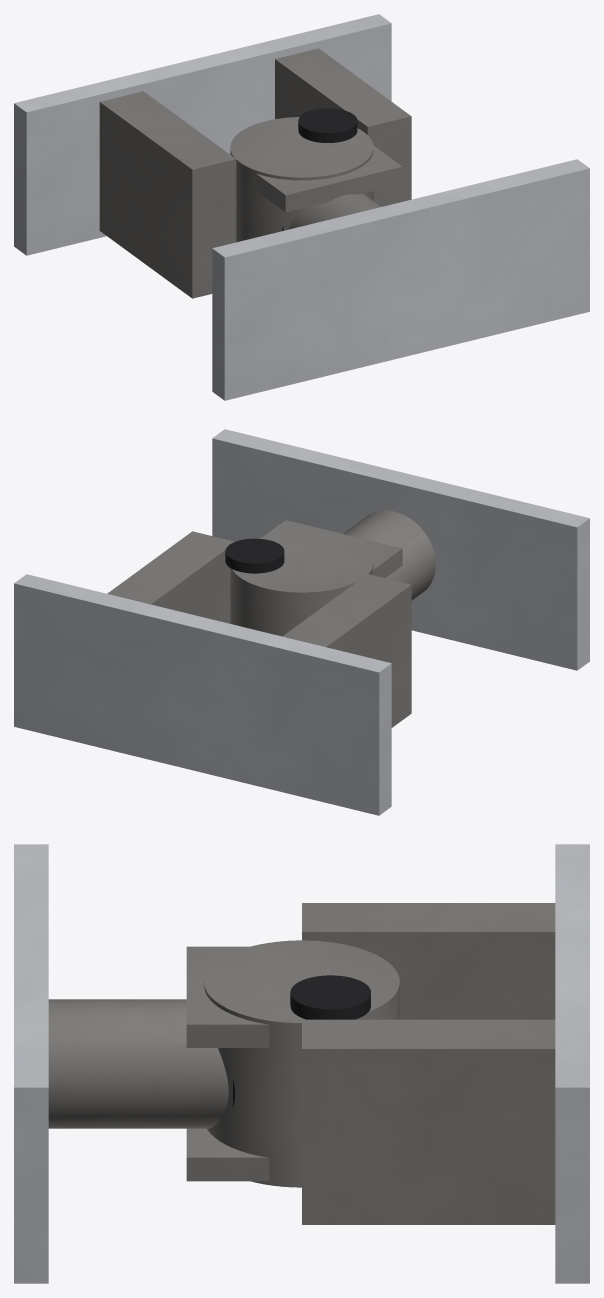
File: rover15_articulated_joint_m.glb
3 renders of one model, top to bottom at view 1: azimuth 30°, elevation 25°; view 2: azimuth 150°, elevation 25°; view 3: azimuth 270°, elevation 25°, orthographic. The views are drawn at different scales.
Parts seen in each view (by area): view 1: half_b_flange, yoke_rear, flange_rear, yaw_bearing, half_b_clevis, yaw_drive, half_b_roll; view 2: flange_rear, half_b_flange, yoke_rear, yaw_bearing, half_b_roll, yaw_drive, half_b_clevis; view 3: yoke_rear, half_b_roll, yaw_bearing, flange_rear, half_b_flange, half_b_clevis, yaw_drive.
Boxes of the visible parts, x1,y1,x2,y2 form: half_b_flange: (212,159,589,400); yoke_rear: (99,48,411,298); flange_rear: (14,14,391,255); yaw_bearing: (230,117,373,242); half_b_clevis: (255,145,402,212); yaw_drive: (298,108,357,142); half_b_roll: (289,193,380,229); flange_rear: (14,574,391,815); half_b_flange: (212,429,589,670); yoke_rear: (107,531,411,727); yaw_bearing: (230,532,373,636); half_b_roll: (343,510,435,600); yaw_drive: (225,538,284,573); half_b_clevis: (263,520,402,578); yoke_rear: (302,903,555,1224); half_b_roll: (48,999,228,1128); yaw_bearing: (204,940,399,1187); flange_rear: (555,844,589,1283); half_b_flange: (14,844,48,1283); half_b_clevis: (186,946,269,1181); yaw_drive: (290,975,370,1019).
Bounding box in the file's own units: 0.8 × 0.3 × 0.8.
4 materials, 2 textured.
